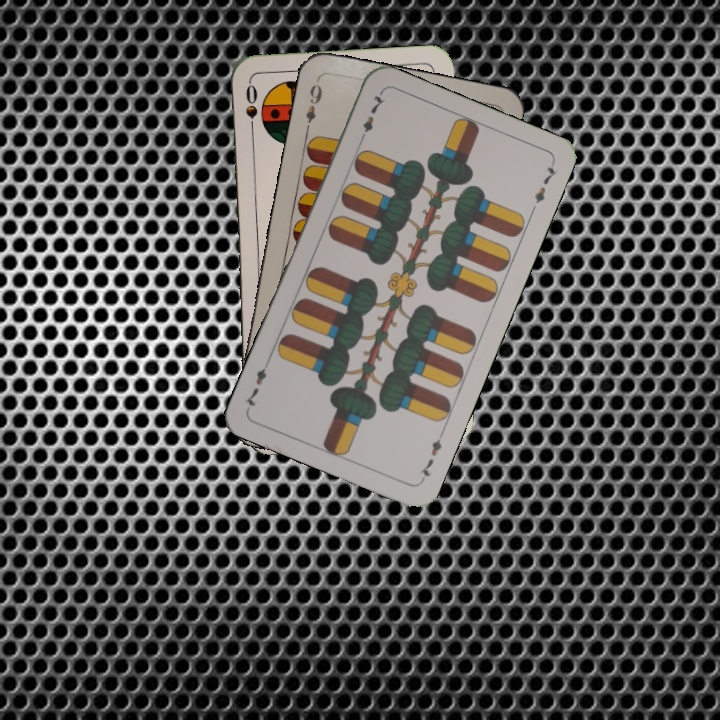E7: (356, 89, 388, 145), (415, 428, 446, 484)
E9: (301, 76, 325, 135)
SO: (241, 80, 260, 139)
